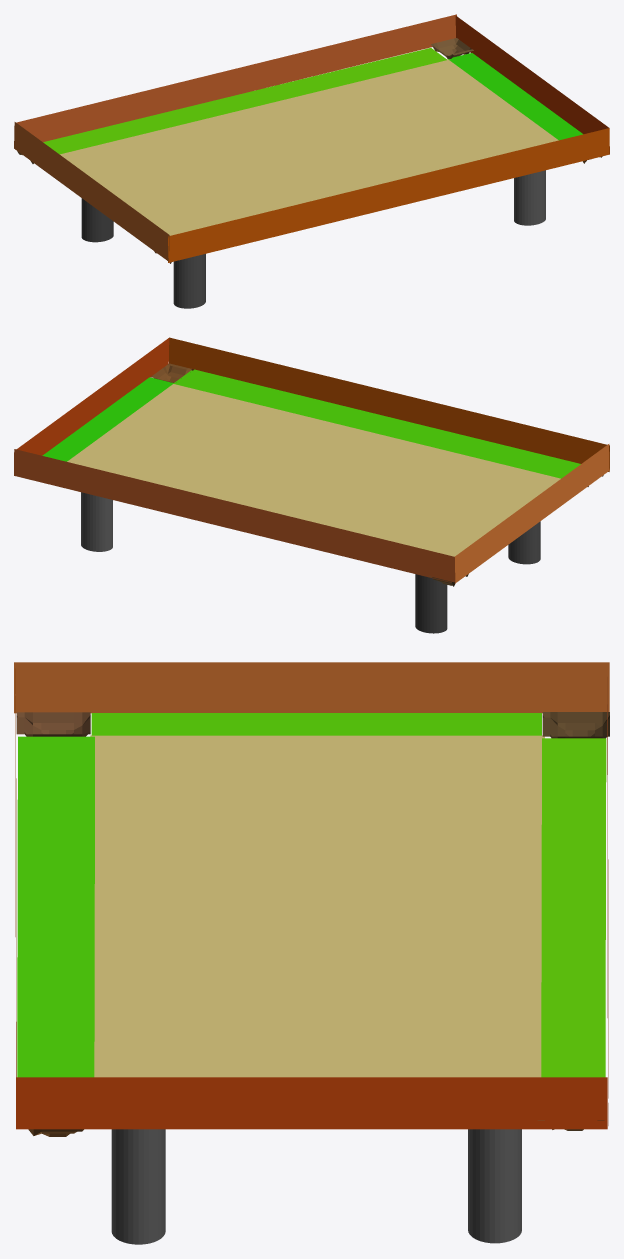
The model's file is Стол2000.fbx.
3 views of the same model, one above another, from view 1: azimuth 30°, elevation 25°; view 2: azimuth 150°, elevation 25°; view 3: azimuth 270°, elevation 25° (orthographic). The views are drawn at different scales.
Parts seen in each view (by area): view 1: Plane, Plane.008, Plane.007, Plane.004, Plane.005, Plane.006, Plane.001, Cylinder.001, Cylinder.002, Cylinder, Grid.002; view 2: Plane, Plane.007, Plane.008, Plane.003, Plane.005, Plane.006, Plane.001, Cylinder, Cylinder.003, Cylinder.001, Grid.003; view 3: Plane, Plane.006, Plane.005, Plane.003, Plane.004, Plane.002, Cylinder.002, Cylinder.003, Grid.001, Grid.
Part boxes in pixels (box(x1,y1,x2,y2)): Plane: box(60, 59, 558, 235); Plane.008: box(168, 128, 609, 262); Plane.007: box(16, 14, 456, 141); Plane.004: box(43, 48, 446, 154); Plane.005: box(14, 122, 169, 261); Plane.006: box(455, 16, 609, 154); Plane.001: box(448, 53, 582, 140); Cylinder.001: box(173, 254, 205, 308); Cylinder.002: box(514, 170, 545, 225); Cylinder: box(81, 198, 113, 242); Grid.002: box(431, 38, 473, 58); Plane: box(67, 384, 560, 556); Plane.007: box(14, 449, 455, 583); Plane.008: box(169, 337, 609, 471); Plane.003: box(173, 369, 580, 478); Plane.005: box(455, 444, 609, 583); Plane.006: box(16, 338, 169, 455); Plane.001: box(42, 377, 173, 461); Cylinder: box(415, 574, 447, 633); Cylinder.003: box(81, 492, 112, 551); Cylinder.001: box(508, 521, 540, 564); Grid.003: box(151, 363, 193, 382); Plane: box(90, 735, 544, 1077); Plane.006: box(16, 1077, 607, 1129); Plane.005: box(14, 662, 609, 713); Plane.003: box(17, 736, 94, 1077); Plane.004: box(541, 738, 606, 1077); Plane.002: box(91, 713, 541, 735); Cylinder.002: box(111, 1129, 165, 1244); Cylinder.003: box(468, 1129, 521, 1243); Grid.001: box(16, 712, 90, 736); Grid: box(542, 712, 609, 738).
Size of the model in its own units: 234 by 53.22 by 142.
